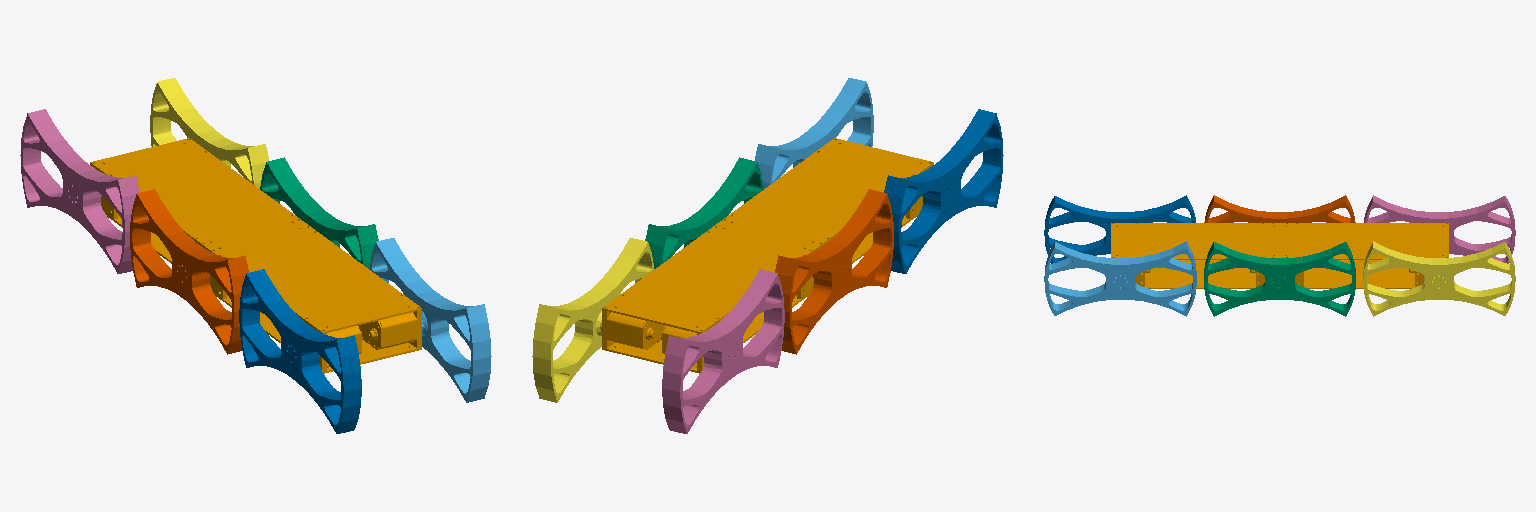
The robot description file, URDF, robot "mini_v3":
<?xml version="1.0" encoding="utf-8"?>
<robot name="mini_v3">
	<link name="body:1">
		<inertial>
			<mass value="0.9533169092019325"/>
			<origin rpy="0 0 0" xyz="-0.0023929470676165897 -0.0021725441997112083 0.021003927420524503"/>
			<inertia ixx="0.020559559996089737" ixy="3.3917108457061034e-05" ixz="4.9467342499998067e-11" iyy="0.0014099703570064903" iyz="-2.0389245847241e-17" izz="0.021425010549233726"/>
		</inertial>
		<collision name="body:1_collision">
			<origin rpy="0.0 -0.0 0.0" xyz="0.0 0.0 0.0"/>
			<geometry>
				<mesh filename="./meshes/body.stl" scale="1.0 1.0 1.0"/>
			</geometry>
		</collision>
		<visual name="body:1_visual">
			<origin rpy="0.0 -0.0 0.0" xyz="0.0 0.0 0.0"/>
			<geometry>
				<mesh filename="./meshes/body.stl" scale="1.0 1.0 1.0"/>
			</geometry>
		</visual>
	</link>
	<link name="wheel_v1:1">
		<inertial>
			<mass value="0.13185481519048178"/>
			<origin rpy="0 0 0" xyz="0.015860279132881322 4.075333190356467e-08 0.00027520756297638727"/>
			<inertia ixx="0.00047207900178906855" ixy="4.717638333318064e-11" ixz="-1.0749872538151627e-08" iyy="7.798785116531493e-05" iyz="3.353751278662998e-08" izz="0.000403292043827976"/>
		</inertial>
		<collision name="wheel_v1:1_collision">
			<origin rpy="-3.1415926535897927 5.352439387238647e-06 1.5707963267948963" xyz="0.016000000000000042 0.0 -1.3877787807814457e-17"/>
			<geometry>
				<mesh filename="./meshes/wheel_v1.stl" scale="1.0 1.0 1.0"/>
			</geometry>
		</collision>
		<visual name="wheel_v1:1_visual">
			<origin rpy="-3.1415926535897927 5.352439387238647e-06 1.5707963267948963" xyz="0.016000000000000042 0.0 -1.3877787807814457e-17"/>
			<geometry>
				<mesh filename="./meshes/wheel_v1.stl" scale="1.0 1.0 1.0"/>
			</geometry>
		</visual>
	</link>
	<link name="wheel_v1:2">
		<inertial>
			<mass value="0.13185481519048178"/>
			<origin rpy="0 0 0" xyz="0.015860279132881266 4.075333189359001e-08 0.00027520756297641155"/>
			<inertia ixx="0.0004720790017890674" ixy="4.717638291962256e-11" ixz="-1.074987253810722e-08" iyy="7.798785116531493e-05" iyz="3.353751278648981e-08" izz="0.00040329204382797475"/>
		</inertial>
		<collision name="wheel_v1:2_collision">
			<origin rpy="3.141592653589793 5.3524393869531926e-06 1.570796326794896" xyz="0.015999999999999986 -9.974659986866641e-18 1.0408340855860843e-17"/>
			<geometry>
				<mesh filename="./meshes/wheel_v1.stl" scale="1.0 1.0 1.0"/>
			</geometry>
		</collision>
		<visual name="wheel_v1:2_visual">
			<origin rpy="3.141592653589793 5.3524393869531926e-06 1.570796326794896" xyz="0.015999999999999986 -9.974659986866641e-18 1.0408340855860843e-17"/>
			<geometry>
				<mesh filename="./meshes/wheel_v1.stl" scale="1.0 1.0 1.0"/>
			</geometry>
		</visual>
	</link>
	<link name="wheel_v1:3">
		<inertial>
			<mass value="0.13185481519048178"/>
			<origin rpy="0 0 0" xyz="0.015860279132881294 4.035296491400331e-08 0.00027520756303540256"/>
			<inertia ixx="0.00047207900178906784" ixy="4.719202166825198e-11" ixz="-1.0749872469495436e-08" iyy="7.798785106842381e-05" iyz="3.3064266123528085e-08" izz="0.0004032920439248663"/>
		</inertial>
		<collision name="wheel_v1:3_collision">
			<origin rpy="3.141592653589793 3.897657451946651e-06 1.570796326794896" xyz="0.016000000000000014 0.0 6.938893903907228e-18"/>
			<geometry>
				<mesh filename="./meshes/wheel_v1.stl" scale="1.0 1.0 1.0"/>
			</geometry>
		</collision>
		<visual name="wheel_v1:3_visual">
			<origin rpy="3.141592653589793 3.897657451946651e-06 1.570796326794896" xyz="0.016000000000000014 0.0 6.938893903907228e-18"/>
			<geometry>
				<mesh filename="./meshes/wheel_v1.stl" scale="1.0 1.0 1.0"/>
			</geometry>
		</visual>
	</link>
	<link name="wheel_v1:4">
		<inertial>
			<mass value="0.13185481519048178"/>
			<origin rpy="0 0 0" xyz="-0.015860279132881287 -4.0753331875809096e-08 0.0002752075629764046"/>
			<inertia ixx="0.00047207900178906855" ixy="4.717638333318064e-11" ixz="1.0749872538085014e-08" iyy="7.798785116531484e-05" iyz="-3.353751278734052e-08" izz="0.0004032920438279746"/>
		</inertial>
		<collision name="wheel_v1:4_collision">
			<origin rpy="3.1415926535897927 5.352439389628187e-06 -1.5707963267948963" xyz="-0.016000000000000007 5.551115123125783e-17 3.469446951953614e-18"/>
			<geometry>
				<mesh filename="./meshes/wheel_v1.stl" scale="1.0 1.0 1.0"/>
			</geometry>
		</collision>
		<visual name="wheel_v1:4_visual">
			<origin rpy="3.1415926535897927 5.352439389628187e-06 -1.5707963267948963" xyz="-0.016000000000000007 5.551115123125783e-17 3.469446951953614e-18"/>
			<geometry>
				<mesh filename="./meshes/wheel_v1.stl" scale="1.0 1.0 1.0"/>
			</geometry>
		</visual>
	</link>
	<link name="wheel_v1:5">
		<inertial>
			<mass value="0.13185481519048178"/>
			<origin rpy="0 0 0" xyz="-0.015860279132881287 -4.0753331935223375e-08 0.0002752075629764185"/>
			<inertia ixx="0.00047207900178906855" ixy="4.7176384013192244e-11" ixz="1.0749872538040606e-08" iyy="7.798785116531474e-05" iyz="-3.353751278337147e-08" izz="0.000403292043827975"/>
		</inertial>
		<collision name="wheel_v1:5_collision">
			<origin rpy="3.1415926535897922 5.352439377367189e-06 -1.5707963267948943" xyz="-0.016000000000000007 -3.469446951953614e-17 1.734723475976807e-17"/>
			<geometry>
				<mesh filename="./meshes/wheel_v1.stl" scale="1.0 1.0 1.0"/>
			</geometry>
		</collision>
		<visual name="wheel_v1:5_visual">
			<origin rpy="3.1415926535897922 5.352439377367189e-06 -1.5707963267948943" xyz="-0.016000000000000007 -3.469446951953614e-17 1.734723475976807e-17"/>
			<geometry>
				<mesh filename="./meshes/wheel_v1.stl" scale="1.0 1.0 1.0"/>
			</geometry>
		</visual>
	</link>
	<link name="wheel_v1:6">
		<inertial>
			<mass value="0.13185481519048178"/>
			<origin rpy="0 0 0" xyz="-0.015860279132881273 4.035296491400331e-08 -0.00027520756303540256"/>
			<inertia ixx="0.00047207900178906784" ixy="-4.719202202352335e-11" ixz="-1.0749872469473231e-08" iyy="7.798785106842381e-05" iyz="-3.3064266124860355e-08" izz="0.00040329204392486486"/>
		</inertial>
		<collision name="wheel_v1:6_collision">
			<origin rpy="-1.6299912157447345e-16 -3.89765745623565e-06 1.570796326794896" xyz="-0.015999999999999993 0.0 -3.469446951953614e-18"/>
			<geometry>
				<mesh filename="./meshes/wheel_v1.stl" scale="1.0 1.0 1.0"/>
			</geometry>
		</collision>
		<visual name="wheel_v1:6_visual">
			<origin rpy="-1.6299912157447345e-16 -3.89765745623565e-06 1.570796326794896" xyz="-0.015999999999999993 0.0 -3.469446951953614e-18"/>
			<geometry>
				<mesh filename="./meshes/wheel_v1.stl" scale="1.0 1.0 1.0"/>
			</geometry>
		</visual>
	</link>
	<joint name="rev0" type="continuous">
		<parent link="body:1"/>
		<child link="wheel_v1:1"/>
		<origin rpy="0 0 0" xyz="0.05310705293238478 -0.2111725441939708 0.021000000000002853"/>
		<axis xyz="-1.0 1.7279786092434146e-16 6.07088080040448e-16"/>
	</joint>
	<joint name="rev1" type="continuous">
		<parent link="body:1"/>
		<child link="wheel_v1:2"/>
		<origin rpy="0 0 0" xyz="0.053107052932384796 -0.0021725441939931833 0.020999999999997153"/>
		<axis xyz="-1.0 6.345182204642587e-16 -1.6299887019044802e-16"/>
	</joint>
	<joint name="rev2" type="continuous">
		<parent link="body:1"/>
		<child link="wheel_v1:3"/>
		<origin rpy="0 0 0" xyz="0.05310705293238477 0.20682745580597064 0.020999999999997153"/>
		<axis xyz="-1.0 7.153811189269383e-16 -1.6299912157323607e-16"/>
	</joint>
	<joint name="rev3" type="continuous">
		<parent link="body:1"/>
		<child link="wheel_v1:4"/>
		<origin rpy="0 0 0" xyz="-0.057892947067614796 -0.21117254419397086 0.02099999999999716"/>
		<axis xyz="1.0 1.7279786092434242e-16 -6.070880800404476e-16"/>
	</joint>
	<joint name="rev4" type="continuous">
		<parent link="body:1"/>
		<child link="wheel_v1:5"/>
		<origin rpy="0 0 0" xyz="-0.057892947067614796 -0.0021725441939928923 0.020999999999997167"/>
		<axis xyz="1.0 2.1483923308923375e-15 -1.0511772898905496e-15"/>
	</joint>
	<joint name="rev5" type="continuous">
		<parent link="body:1"/>
		<child link="wheel_v1:6"/>
		<origin rpy="0 0 0" xyz="-0.05789294706761481 0.20682745580597073 0.02100000000000283"/>
		<axis xyz="1.0 -6.168865106199634e-16 1.6299912157323533e-16"/>
	</joint>
</robot>

--- What the picture shows (computed from the rendered views, not written in the file) ---
Views: 3 orthographic renders of the robot side by side, from view 1: azimuth 30°, elevation 25°; view 2: azimuth 150°, elevation 25°; view 3: azimuth 270°, elevation 25°.
Model mini_v3 with 7 links and 6 joints (6 continuous), rooted at body:1, posed every joint at zero.
Visible links, largest first — view 1: body:1, wheel_v1:4, wheel_v1:5, wheel_v1:6, wheel_v1:1, wheel_v1:3, wheel_v1:2; view 2: body:1, wheel_v1:6, wheel_v1:5, wheel_v1:4, wheel_v1:3, wheel_v1:1, wheel_v1:2; view 3: body:1, wheel_v1:2, wheel_v1:1, wheel_v1:3, wheel_v1:4, wheel_v1:6, wheel_v1:5.
Boxes of the visible links, bbox=[...] form: body:1: bbox=[90, 138, 421, 373]; wheel_v1:4: bbox=[239, 269, 361, 433]; wheel_v1:5: bbox=[130, 189, 248, 354]; wheel_v1:6: bbox=[20, 109, 139, 273]; wheel_v1:1: bbox=[369, 238, 491, 402]; wheel_v1:3: bbox=[150, 78, 268, 188]; wheel_v1:2: bbox=[260, 157, 378, 268]; body:1: bbox=[602, 138, 933, 373]; wheel_v1:6: bbox=[662, 269, 784, 433]; wheel_v1:5: bbox=[775, 189, 893, 354]; wheel_v1:4: bbox=[884, 109, 1003, 273]; wheel_v1:3: bbox=[532, 238, 654, 402]; wheel_v1:1: bbox=[755, 78, 873, 188]; wheel_v1:2: bbox=[645, 157, 763, 268]; body:1: bbox=[1111, 223, 1448, 288]; wheel_v1:2: bbox=[1204, 242, 1355, 316]; wheel_v1:1: bbox=[1044, 241, 1196, 316]; wheel_v1:3: bbox=[1363, 241, 1515, 316]; wheel_v1:4: bbox=[1044, 195, 1195, 263]; wheel_v1:6: bbox=[1364, 195, 1515, 263]; wheel_v1:5: bbox=[1204, 195, 1355, 222].
Size in the robot's own frame: 0.163 by 0.618 by 0.1 metres.
7 mesh visuals loaded from 2 distinct referenced files (2 binary STL).